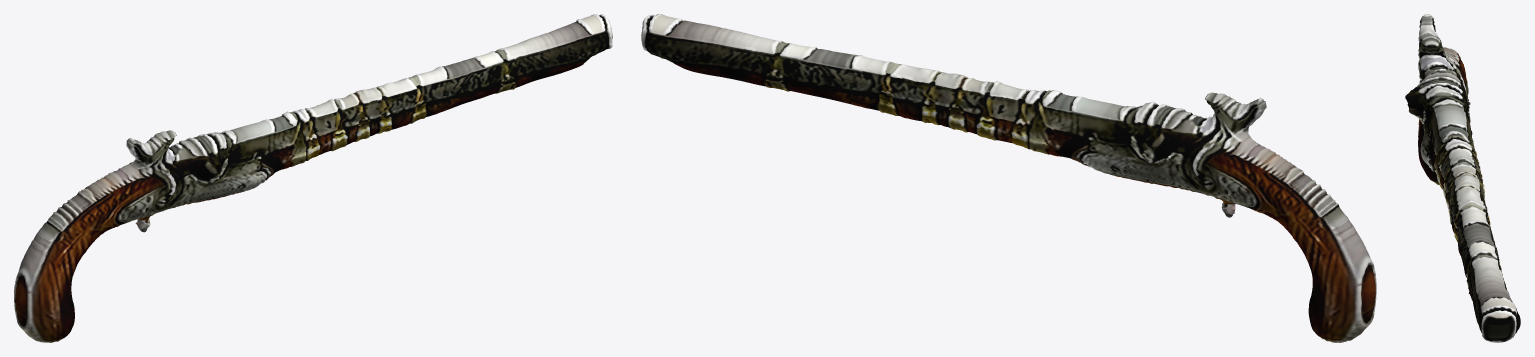
File: kfl-2248.glb
The picture shows the model from 3 angles, left to right: view 1: azimuth 30°, elevation 25°; view 2: azimuth 150°, elevation 25°; view 3: azimuth 270°, elevation 25°; orthographic projection. The views are drawn at different scales.
Parts seen in each view (by area): view 1: kfl-2248; view 2: kfl-2248; view 3: kfl-2248.
Boxes of the visible parts, x1,y1,x2,y2 form: kfl-2248: [14, 14, 612, 342]; kfl-2248: [641, 14, 1376, 342]; kfl-2248: [1405, 14, 1520, 342].
Size of the model in its own units: 0.9935 by 0.2921 by 0.1479.
Materials: 1 (1 with a texture image).
